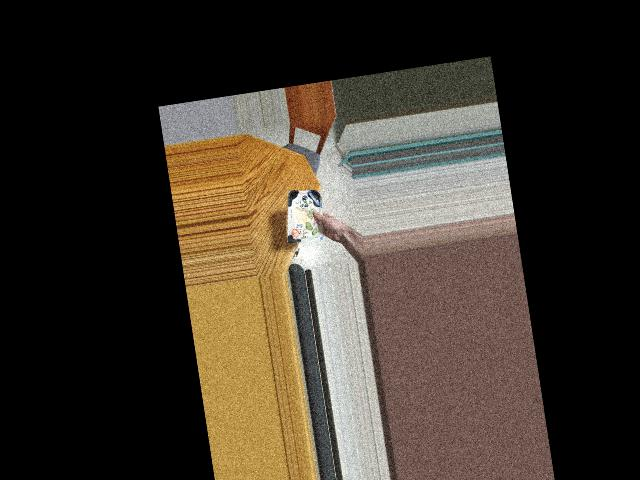cheese: (279, 187, 333, 245)
